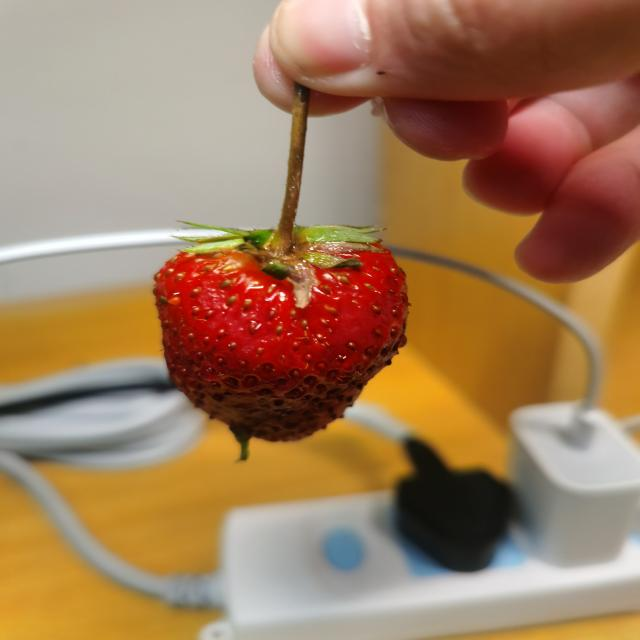stem: (266, 134, 306, 260)
strawberry: (154, 224, 408, 441)
